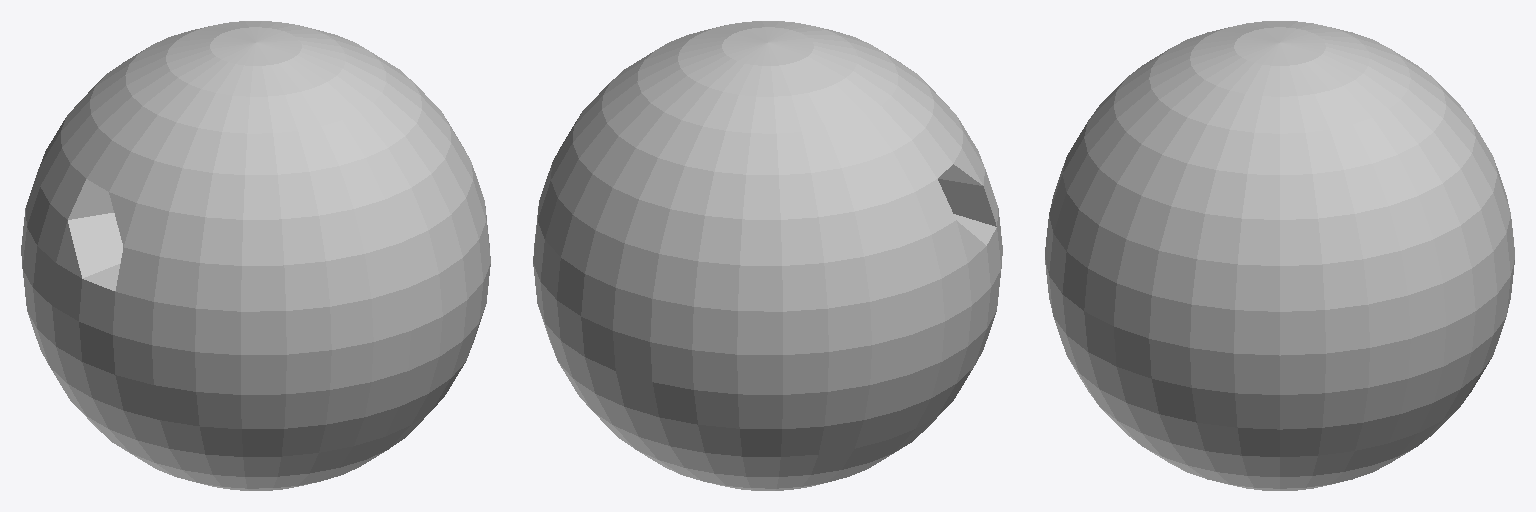
File: sphereBIG.obj
The picture shows the model from 3 angles: view 1: azimuth 30°, elevation 25°; view 2: azimuth 150°, elevation 25°; view 3: azimuth 270°, elevation 25°; orthographic projection.
Visible parts, largest first — view 1: Sphere001; view 2: Sphere001; view 3: Sphere001.
Part boxes in pixels (x1,y1,x2,y2): Sphere001: (21, 21, 490, 490); Sphere001: (533, 21, 1002, 490); Sphere001: (1045, 21, 1514, 490).
Bounding box in the file's own units: 63.54 × 63.54 × 63.54.